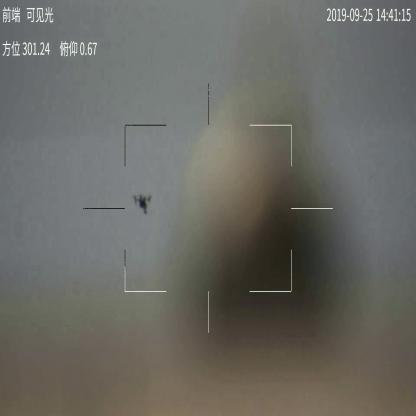uav: (135, 191, 159, 214)
